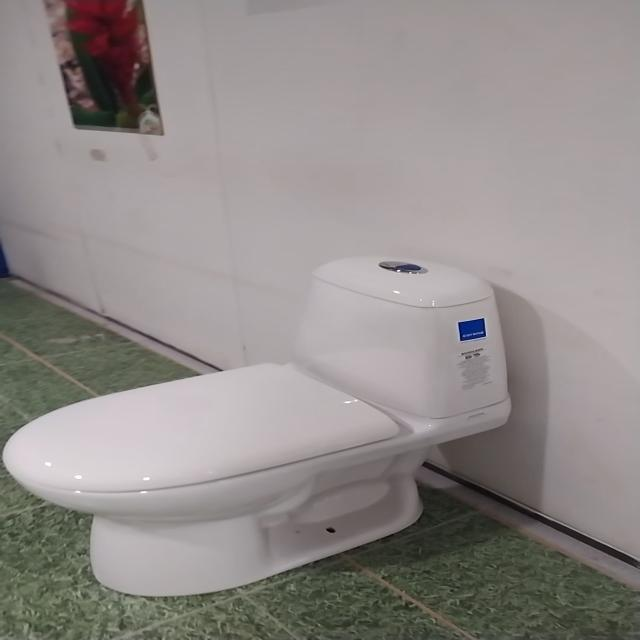toilet: (1, 255, 512, 597)
